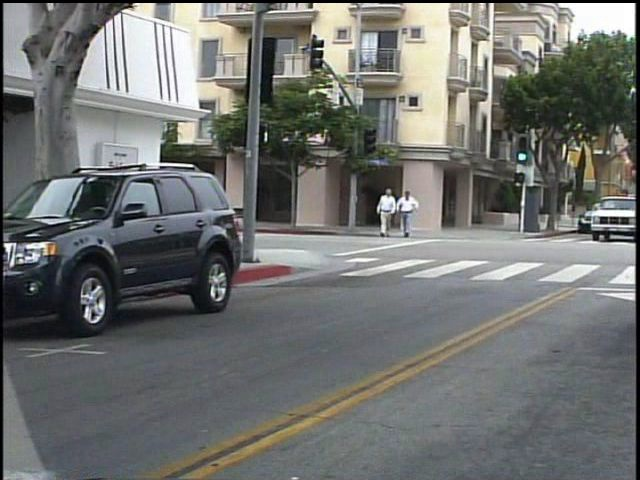person: (381, 183, 405, 245), (400, 186, 426, 242)
